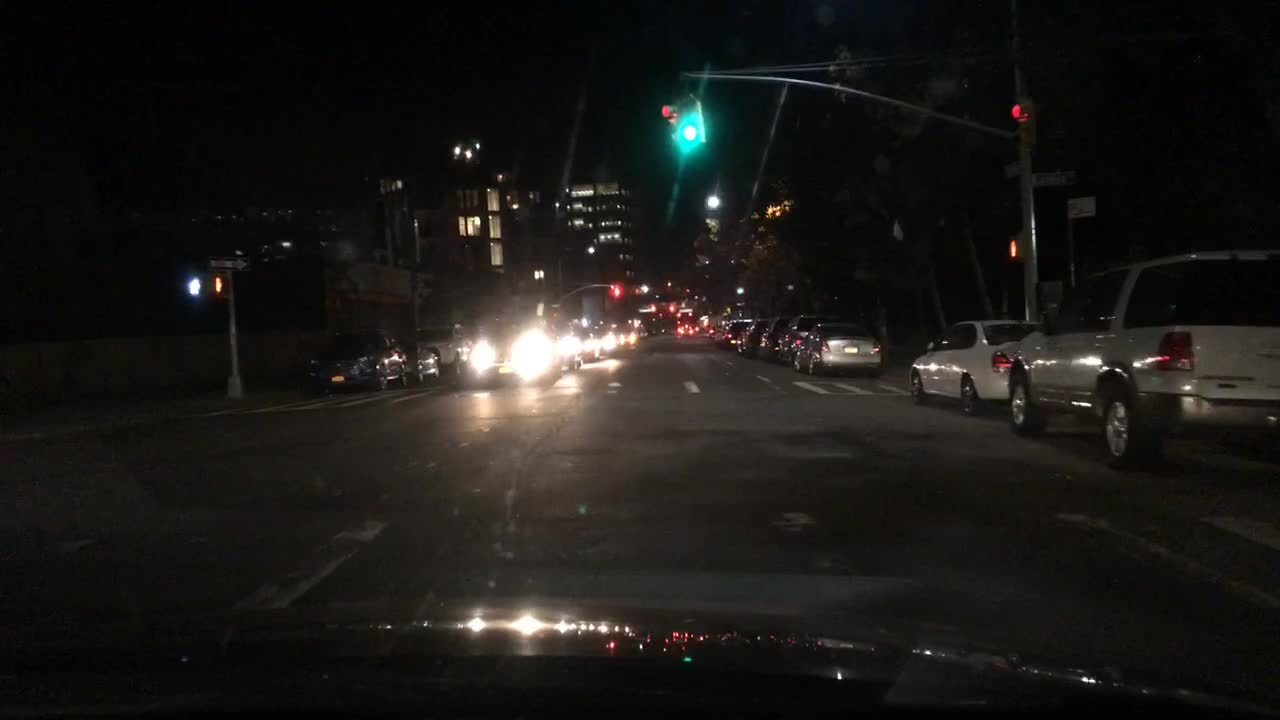car: (1005, 244, 1277, 466), (906, 316, 1043, 415), (302, 328, 407, 397), (462, 317, 559, 388), (792, 321, 883, 375), (776, 312, 843, 366), (414, 321, 473, 374), (401, 345, 443, 384), (756, 315, 794, 358), (558, 317, 588, 370), (732, 318, 770, 353), (598, 321, 629, 356), (714, 318, 751, 347), (618, 320, 648, 352), (582, 319, 602, 363), (705, 320, 723, 339), (673, 323, 696, 335), (646, 319, 664, 334)
traffic light: (1009, 97, 1038, 139), (658, 100, 680, 136), (181, 270, 207, 299), (683, 119, 697, 145), (210, 274, 225, 296), (667, 301, 675, 316), (613, 286, 621, 299), (674, 308, 683, 318), (687, 308, 696, 318)
traffic sign: (204, 254, 253, 272), (1067, 197, 1097, 218), (1033, 171, 1075, 183), (637, 305, 652, 313)
